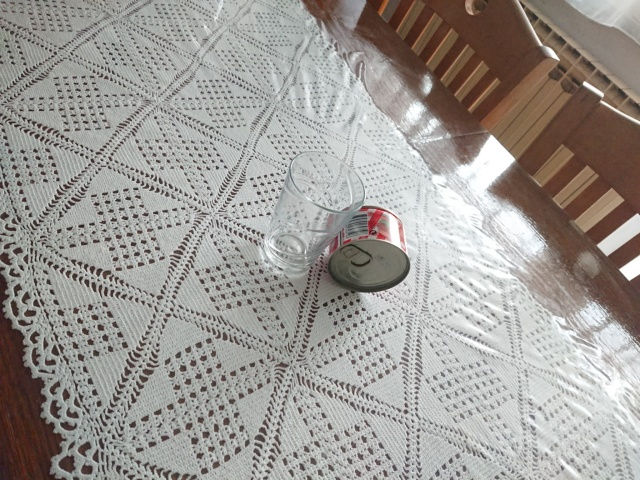Podravka Luncheon Meat 150g: (324, 202, 412, 295)
